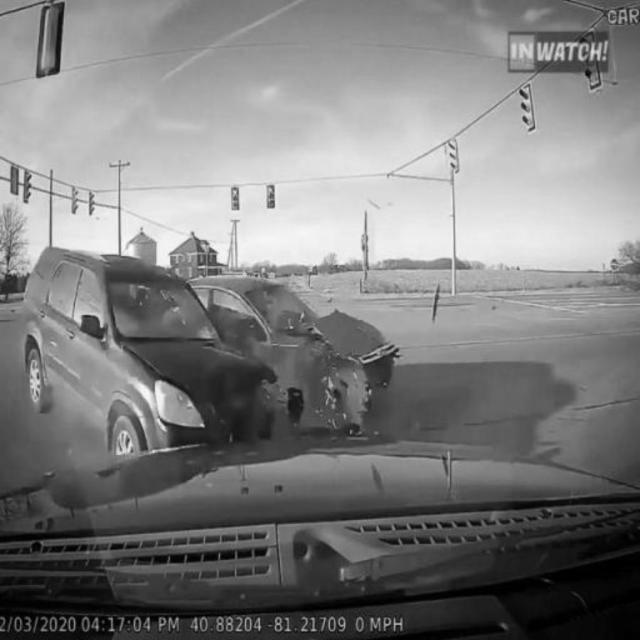accident: (24, 240, 398, 444)
